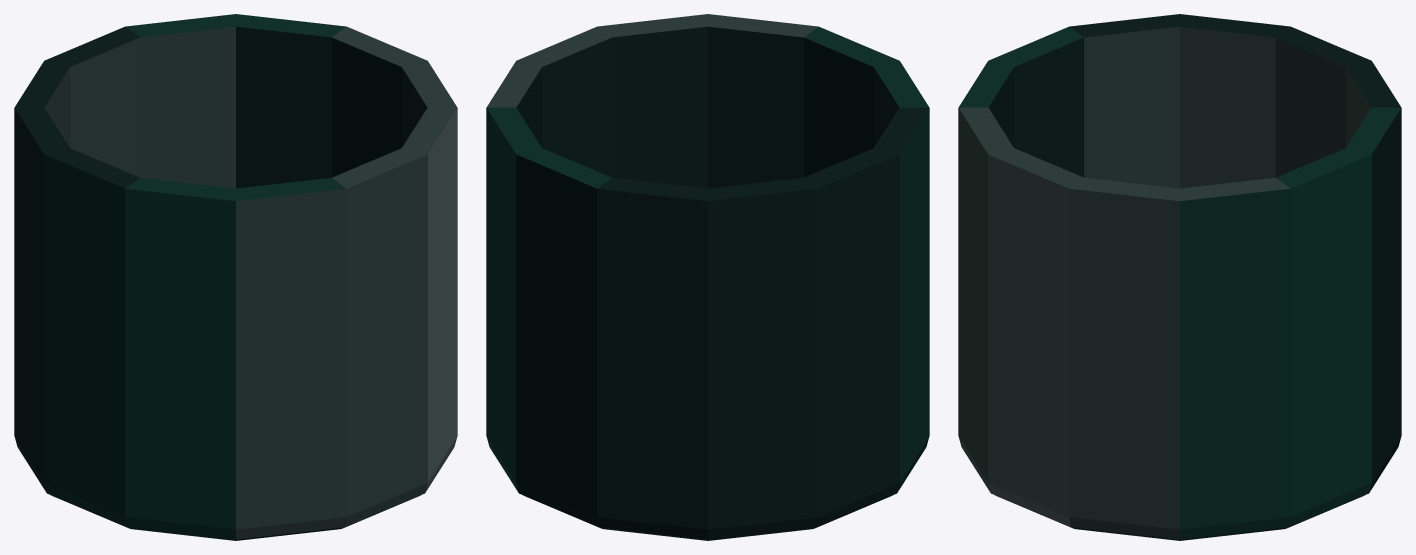
The model's file is Papelera.obj.
3 renders of one model, left to right at view 1: azimuth 30°, elevation 25°; view 2: azimuth 150°, elevation 25°; view 3: azimuth 270°, elevation 25°, orthographic.
Parts seen in each view (by area): view 1: Circle; view 2: Circle; view 3: Circle.
Part boxes in pixels (x1=…): Circle: x1=14, y1=14, x2=457, y2=540; Circle: x1=486, y1=14, x2=929, y2=540; Circle: x1=958, y1=14, x2=1401, y2=540.
Bounding box in the file's own units: 0.7 × 0.6 × 0.7.
1 material, 1 textured.
